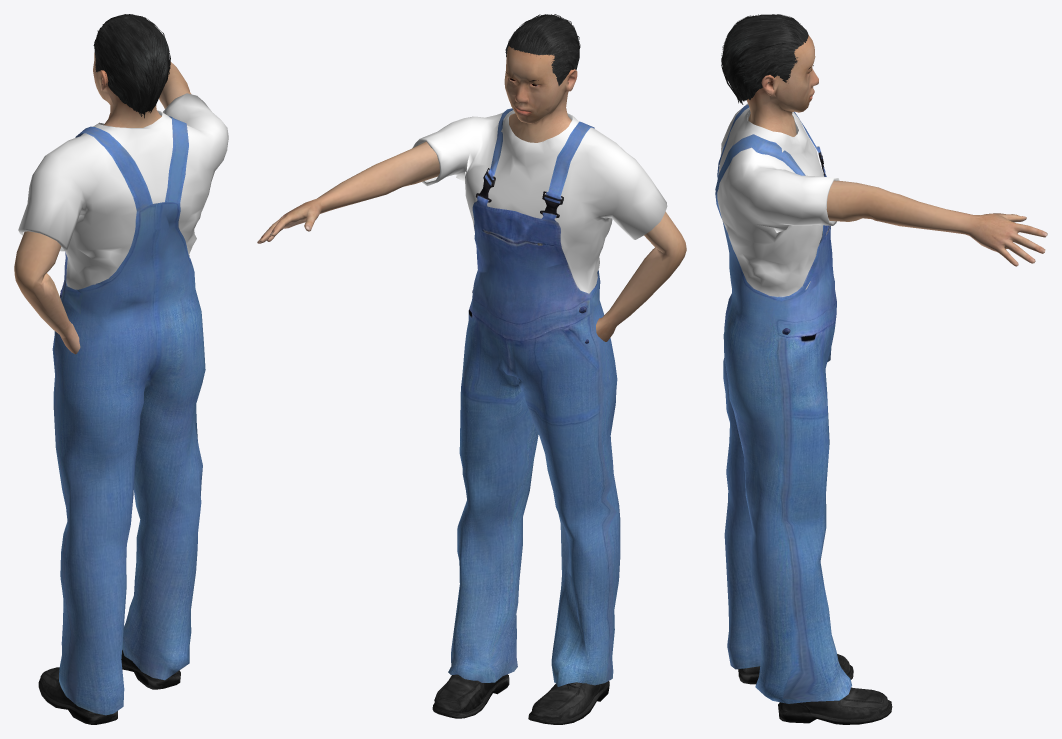
Rendered from pointing_2.gltf.
3 renders of one model, left to right at view 1: azimuth 30°, elevation 25°; view 2: azimuth 150°, elevation 25°; view 3: azimuth 270°, elevation 25°, orthographic. The views are drawn at different scales.
Parts seen in each view (by area): view 1: pointing; view 2: pointing; view 3: pointing.
Part boxes in pixels (<box>): pointing: <box>14,14,228,724</box>; pointing: <box>257,14,686,724</box>; pointing: <box>715,14,1047,724</box>.
Bounding box in the file's own units: 0.7942 × 1.79 × 0.7943.
Materials: 6 (6 with a texture image).
